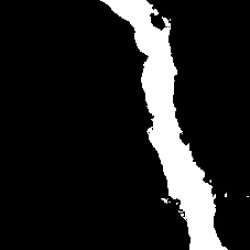crack: (96, 2, 229, 248)
